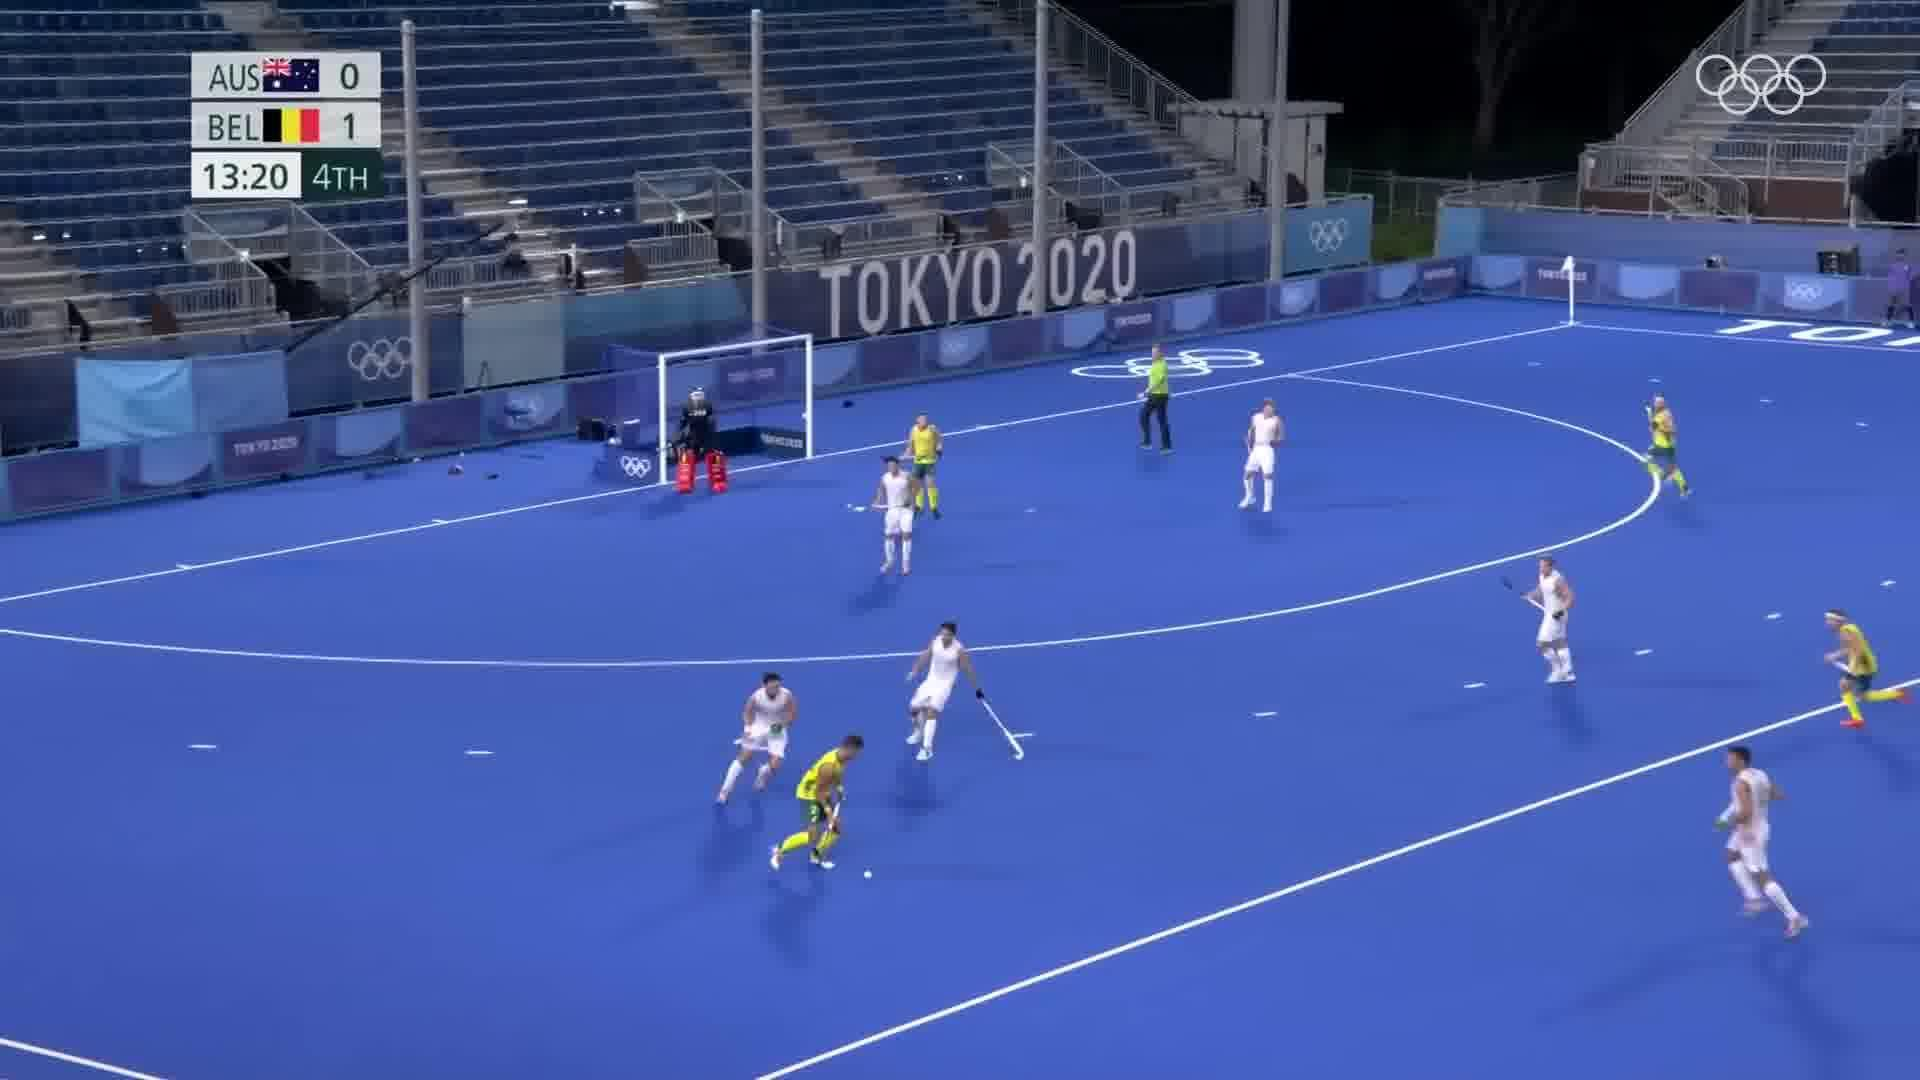ball: (851, 861, 886, 887)
